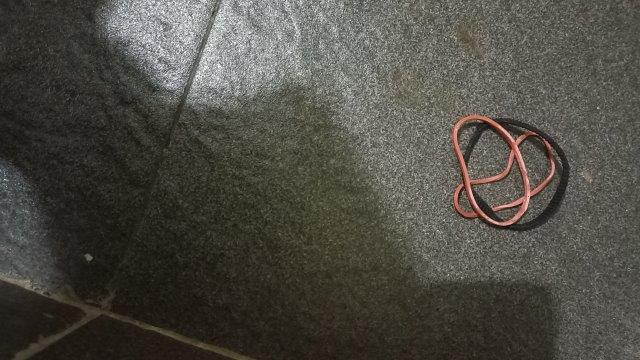karet: (452, 114, 568, 231)
